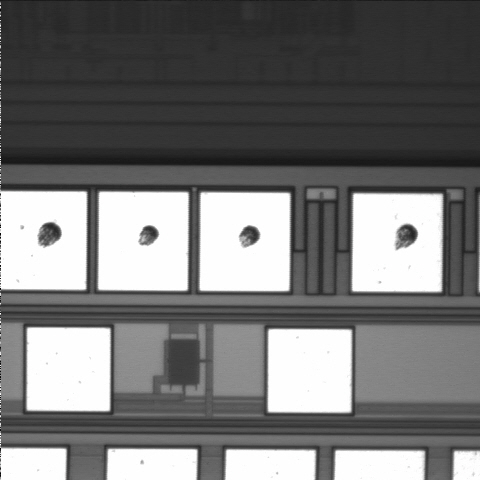pad: (98, 192, 188, 291), (200, 193, 290, 291), (352, 194, 442, 292), (27, 328, 110, 411), (268, 329, 351, 412)
